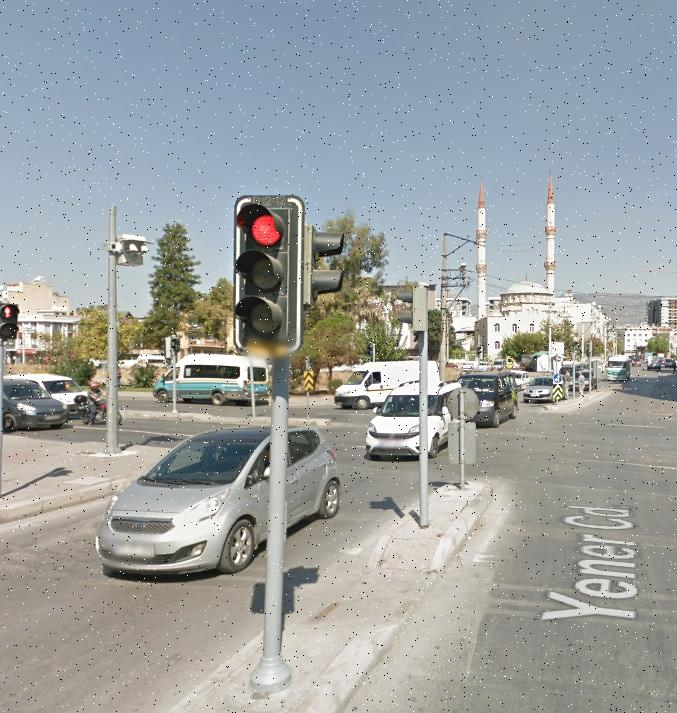redlight: (237, 200, 302, 350)
